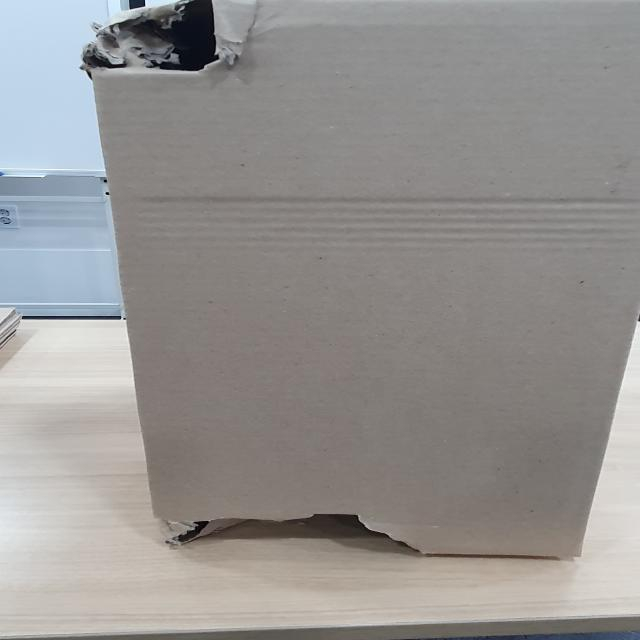hole: (160, 501, 440, 560), (86, 0, 247, 84)
